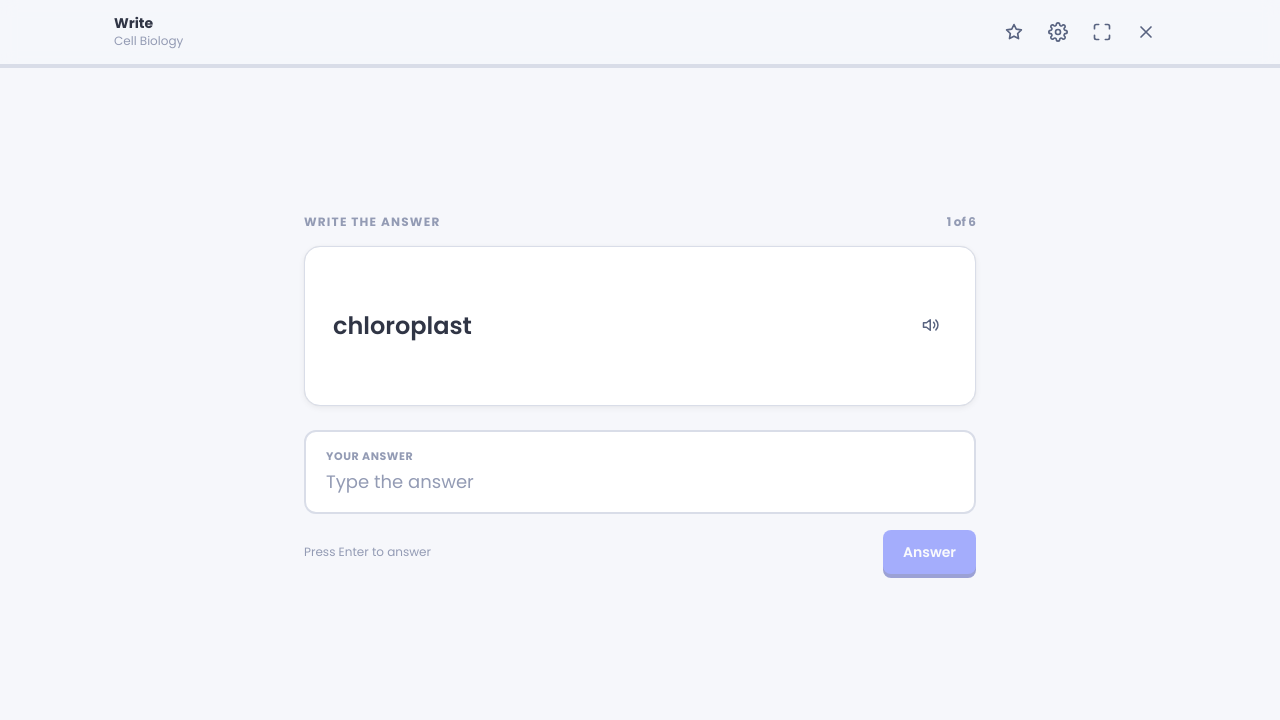
Test case: Write › treats a near miss as a typo rather than a failure
The image size is (1280, 720).
Type "site of photosynthesi" into the field named "your answer" at [640, 482], box left=326, top=468, right=954, bottom=496
Then press Enter
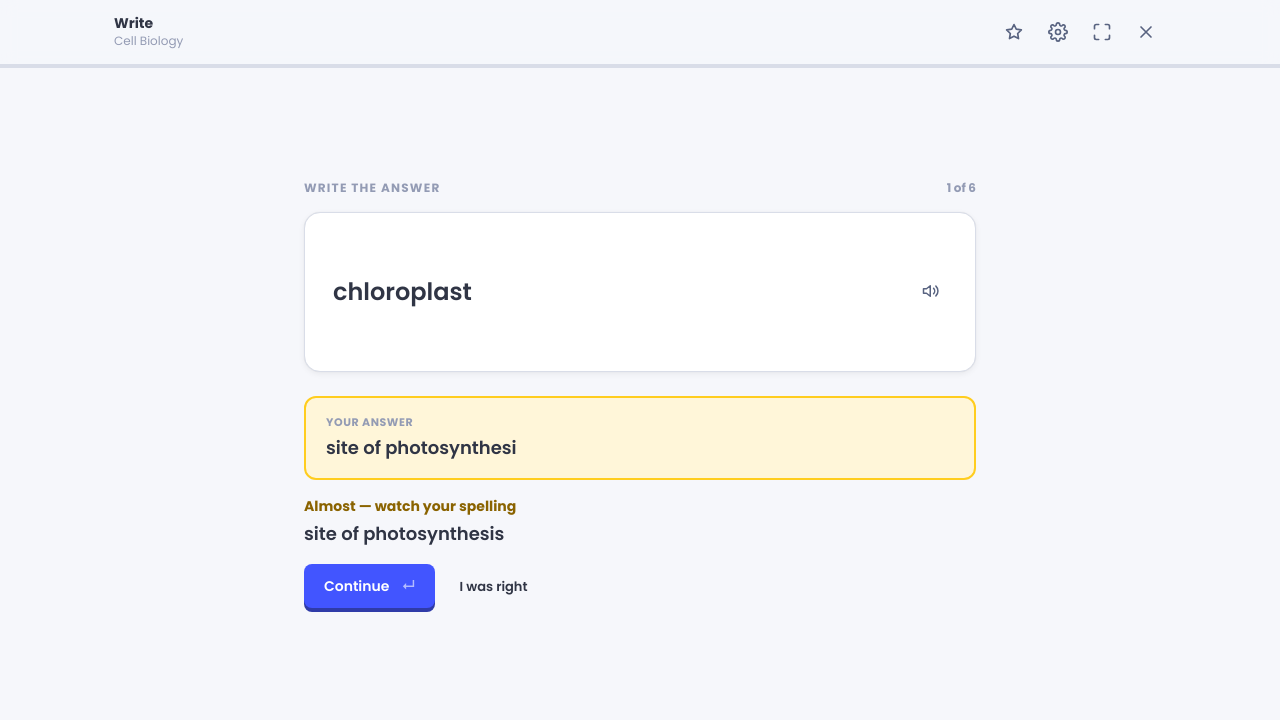
Expected: the text "Almost — watch your spelling" is shown, left=304, top=496, right=516, bottom=516
